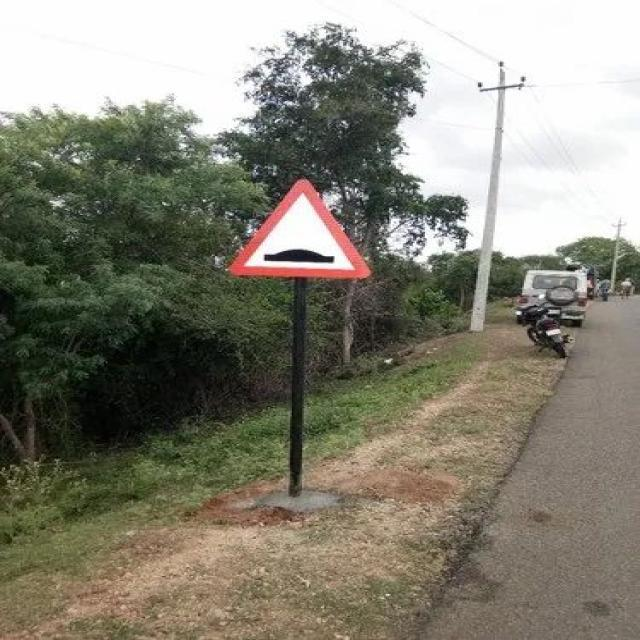hump or rough road: (226, 171, 373, 286)
